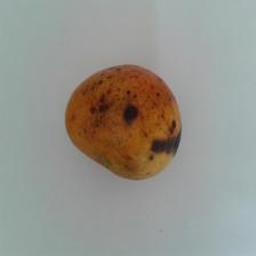Mango Semirotten: (60, 59, 185, 184)
